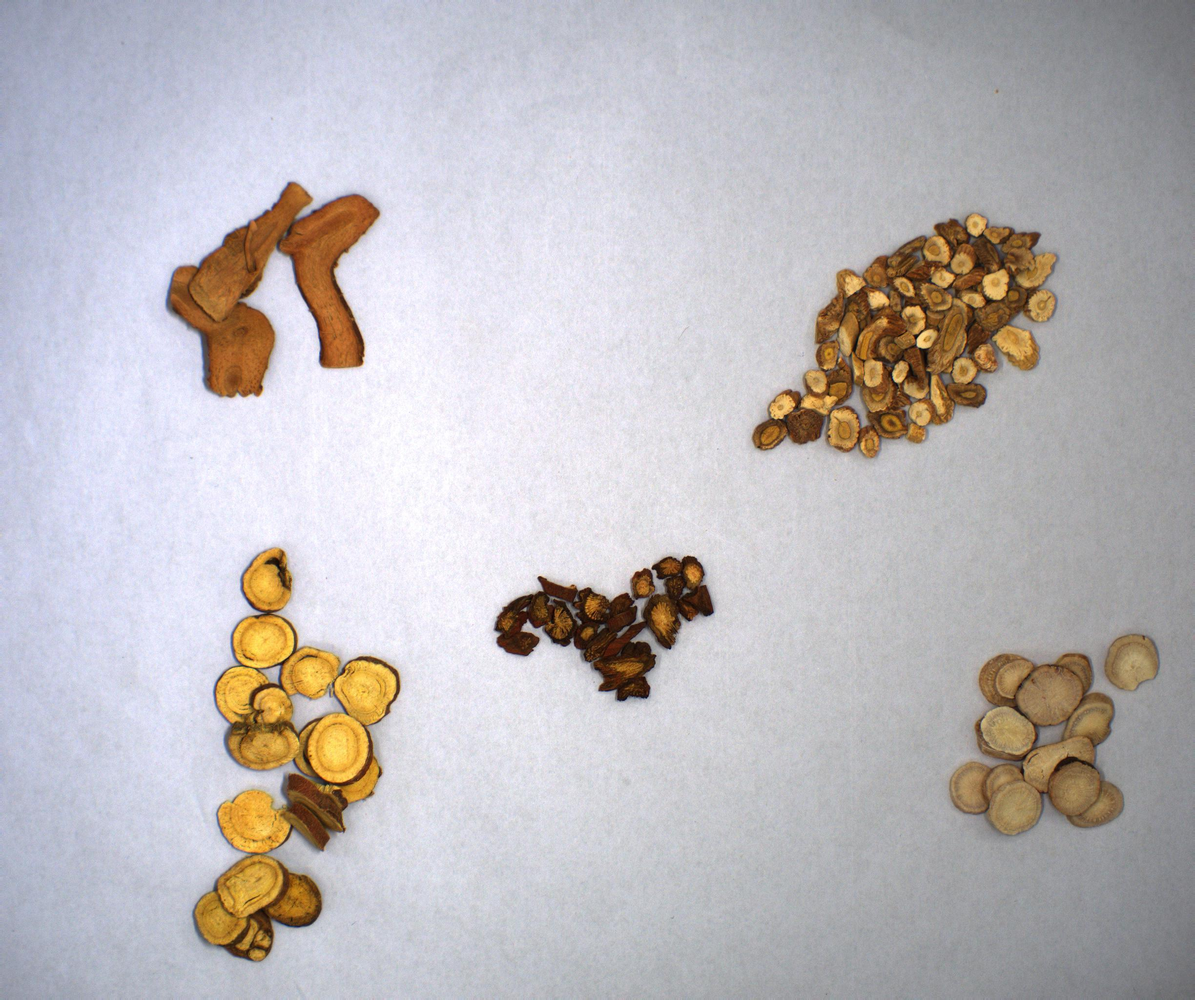baishao: (932, 593, 1195, 893)
banlangen: (740, 172, 1108, 493)
danshen: (473, 538, 778, 734)
gancaopian: (176, 505, 431, 985)
gaoliangjiang: (151, 159, 400, 430)
